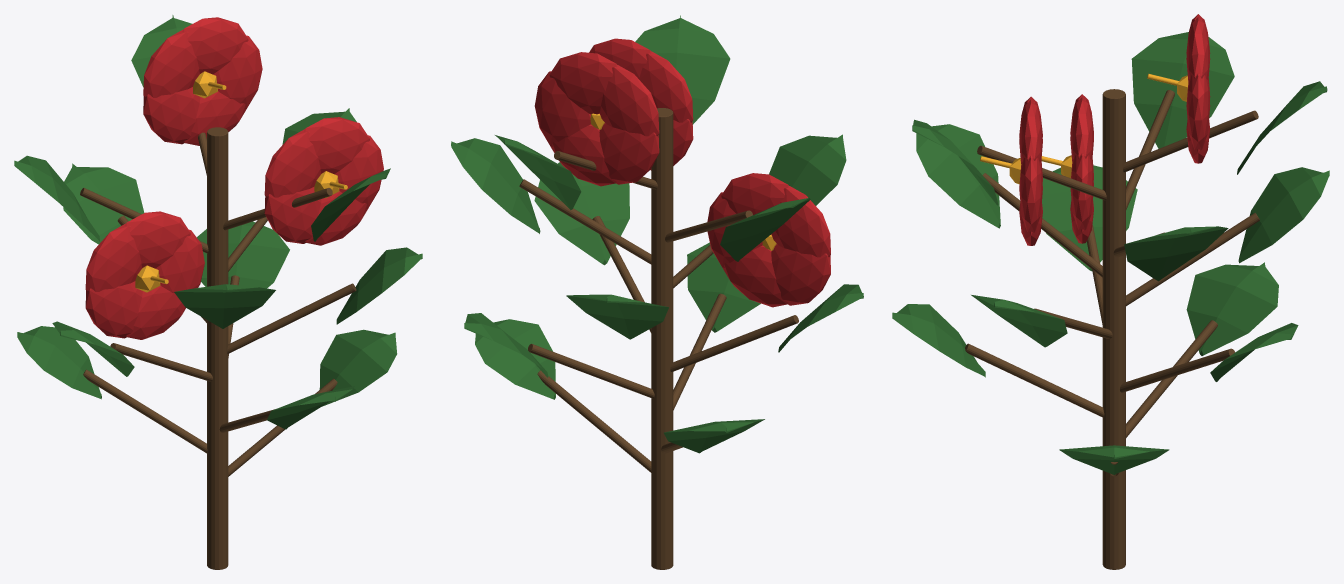
3 renders of one model, left to right at view 1: azimuth 30°, elevation 25°; view 2: azimuth 150°, elevation 25°; view 3: azimuth 270°, elevation 25°, orthographic. The views are drawn at different scales.
Visible parts, largest first — view 1: HIBISCUS_Stem, HIBISCUS_Leaf_0, HIBISCUS_Leaf_6, HIBISCUS_Leaf_1, HIBISCUS_Leaf_3, HIBISCUS_Leaf_7, HIBISCUS_Flower_2_Petal.003, HIBISCUS_Flower_1_Petal.003, HIBISCUS_Flower_0_Petal.003, HIBISCUS_Flower_1_Petal.002, HIBISCUS_Flower_2_Petal.002, HIBISCUS_Flower_0_Petal.002 (+23 smaller); view 2: HIBISCUS_Stem, HIBISCUS_Leaf_10, HIBISCUS_Leaf_5, HIBISCUS_Leaf_7, HIBISCUS_Leaf_8, HIBISCUS_Leaf_0, HIBISCUS_Flower_2_Petal.003, HIBISCUS_Leaf_2, HIBISCUS_Flower_2_Petal.002, HIBISCUS_Flower_2_Petal.004, HIBISCUS_Flower_1_Petal.004, HIBISCUS_Leaf_6 (+22 smaller); view 3: HIBISCUS_Stem, HIBISCUS_Leaf_1, HIBISCUS_Leaf_9, HIBISCUS_Leaf_7, HIBISCUS_Leaf_6, HIBISCUS_Leaf_8, HIBISCUS_Leaf_4, HIBISCUS_Leaf_2, HIBISCUS_Leaf_5, HIBISCUS_Leaf_0, HIBISCUS_Branch.002, HIBISCUS_Flower_2_Petal.001 (+17 smaller).
Boxes of the visible parts, left/top/right/bottom form: HIBISCUS_Stem: left=207, top=127, right=228, bottom=569; HIBISCUS_Leaf_0: left=319, top=329, right=397, bottom=406; HIBISCUS_Leaf_6: left=63, top=163, right=144, bottom=244; HIBISCUS_Leaf_1: left=17, top=326, right=101, bottom=399; HIBISCUS_Leaf_3: left=197, top=221, right=289, bottom=288; HIBISCUS_Leaf_7: left=174, top=284, right=275, bottom=328; HIBISCUS_Flower_2_Petal.003: left=143, top=29, right=199, bottom=97; HIBISCUS_Flower_1_Petal.003: left=85, top=223, right=142, bottom=291; HIBISCUS_Flower_0_Petal.003: left=264, top=129, right=321, bottom=197; HIBISCUS_Flower_1_Petal.002: left=124, top=211, right=190, bottom=268; HIBISCUS_Flower_2_Petal.002: left=182, top=17, right=248, bottom=74; HIBISCUS_Flower_0_Petal.002: left=303, top=117, right=369, bottom=174; HIBISCUS_Stem: left=651, top=108, right=673, bottom=569; HIBISCUS_Leaf_10: left=635, top=15, right=730, bottom=124; HIBISCUS_Leaf_5: left=534, top=162, right=629, bottom=265; HIBISCUS_Leaf_7: left=769, top=134, right=846, bottom=205; HIBISCUS_Leaf_8: left=451, top=138, right=540, bottom=233; HIBISCUS_Leaf_0: left=475, top=319, right=555, bottom=399; HIBISCUS_Flower_2_Petal.003: left=599, top=65, right=659, bottom=136; HIBISCUS_Leaf_2: left=687, top=242, right=760, bottom=332; HIBISCUS_Flower_2_Petal.002: left=549, top=52, right=618, bottom=114; HIBISCUS_Flower_2_Petal.004: left=599, top=123, right=659, bottom=184; HIBISCUS_Flower_1_Petal.004: left=771, top=244, right=830, bottom=305; HIBISCUS_Leaf_6: left=566, top=294, right=668, bottom=339; HIBISCUS_Stem: left=1102, top=89, right=1125, bottom=569; HIBISCUS_Leaf_1: left=1186, top=262, right=1278, bottom=355; HIBISCUS_Leaf_9: left=1131, top=32, right=1234, bottom=148; HIBISCUS_Leaf_7: left=916, top=124, right=1000, bottom=228; HIBISCUS_Leaf_6: left=1238, top=167, right=1329, bottom=263; HIBISCUS_Leaf_8: left=1124, top=226, right=1228, bottom=281; HIBISCUS_Leaf_4: left=1042, top=165, right=1137, bottom=271; HIBISCUS_Leaf_2: left=892, top=304, right=985, bottom=377; HIBISCUS_Leaf_5: left=971, top=295, right=1067, bottom=347; HIBISCUS_Leaf_0: left=1059, top=445, right=1169, bottom=474; HIBISCUS_Branch.002: left=965, top=343, right=1104, bottom=417; HIBISCUS_Flower_2_Petal.001: left=1186, top=73, right=1210, bottom=150.
Size of the model in its own units: 0.9528 by 1.32 by 0.942.
